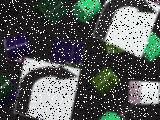Right: (13, 57, 80, 120), (92, 0, 160, 58)
